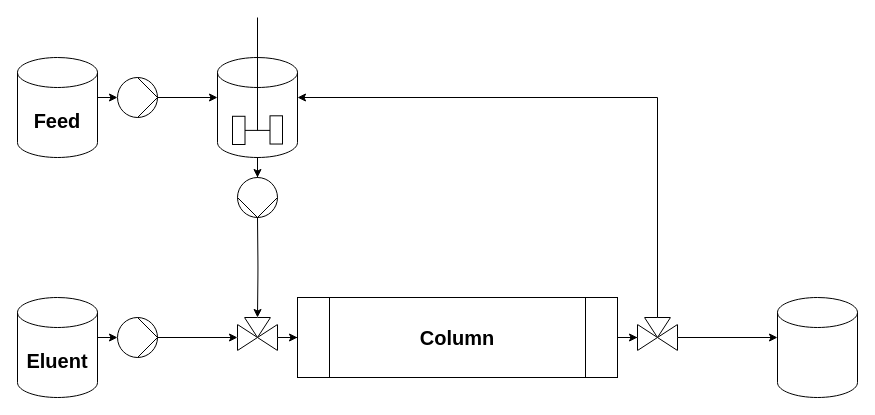
Some shapes in this 875 by 415 pixel diagram are drawn without their labels. Here are the shapes that lost their labels. From the top down, the box of each, then its label:
(216, 56, 298, 158): Cstr
(776, 296, 858, 398): Outlet
